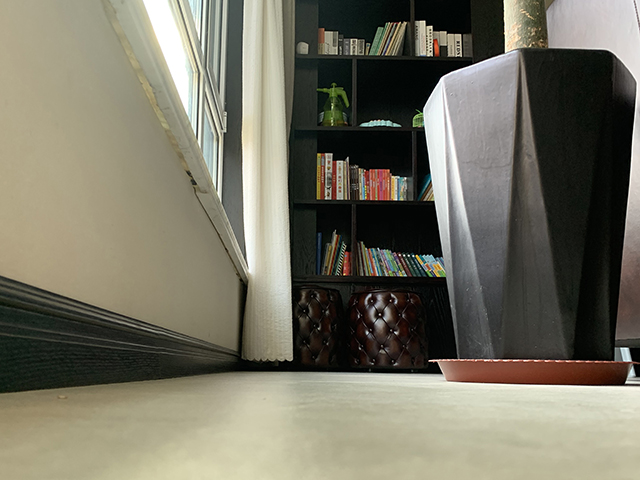curtain: (241, 1, 292, 363)
stool: (343, 288, 428, 372), (294, 286, 343, 372)
